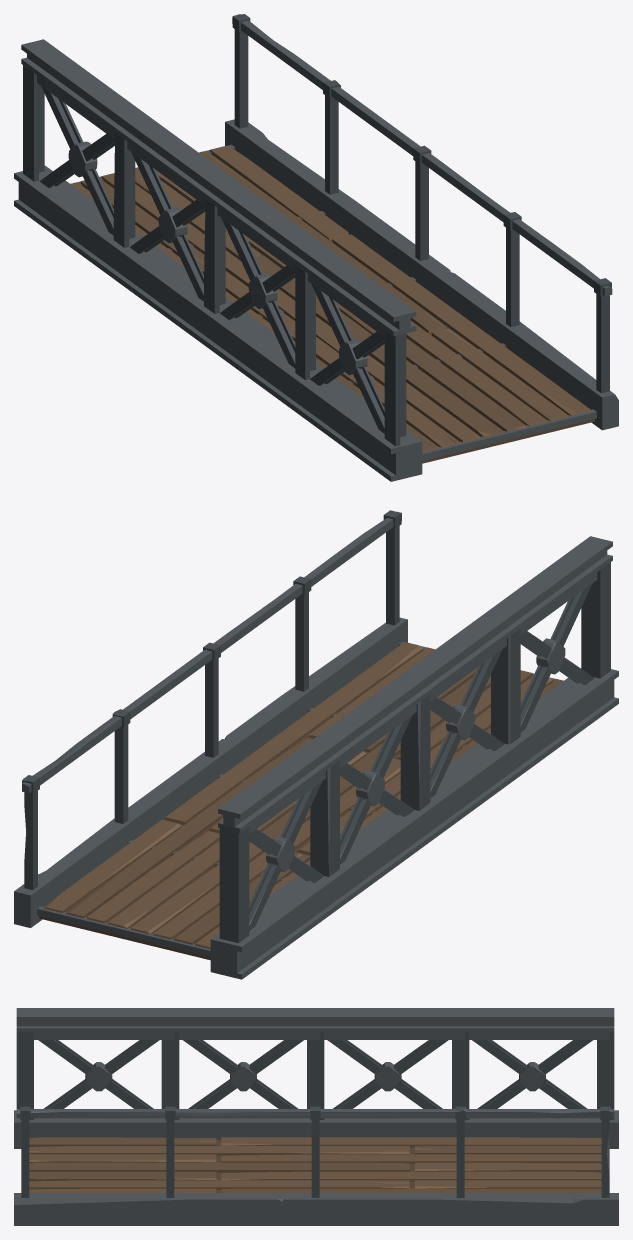
The model's file is 20C_Bridge_Middle.fbx.
3 renders of one model, top to bottom at view 1: azimuth 30°, elevation 25°; view 2: azimuth 150°, elevation 25°; view 3: azimuth 270°, elevation 25°, orthographic. The views are drawn at different scales.
Parts seen in each view (by area): view 1: 20C_Bridge_Middle; view 2: 20C_Bridge_Middle; view 3: 20C_Bridge_Middle.
Part boxes in pixels (x1=…): 20C_Bridge_Middle: x1=14, y1=14, x2=618, y2=481; 20C_Bridge_Middle: x1=14, y1=510, x2=618, y2=979; 20C_Bridge_Middle: x1=14, y1=1008, x2=618, y2=1225.
Size of the model in its own units: 36.4 by 24.76 by 104.
